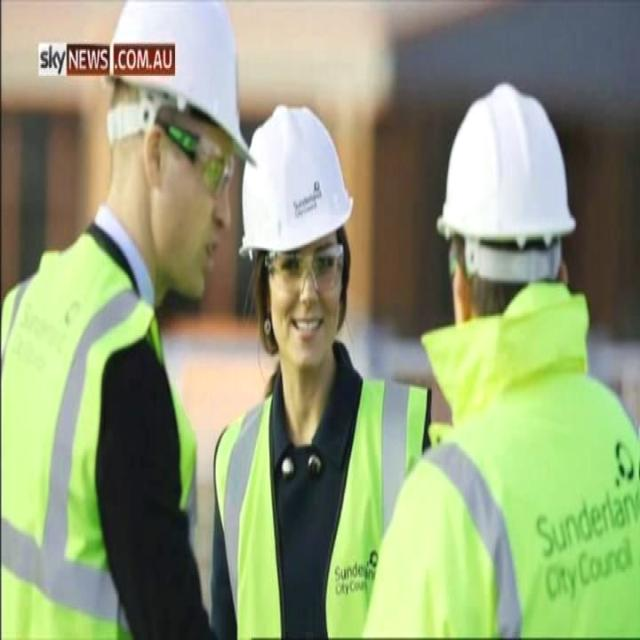face_nomask: (146, 93, 236, 307), (262, 242, 354, 368)
glasses: (261, 238, 348, 296), (188, 127, 240, 206)
head_helmet: (418, 51, 602, 266), (101, 0, 244, 153), (232, 103, 355, 254)
person: (398, 35, 630, 629), (23, 9, 225, 640), (217, 85, 388, 640)
vest: (3, 231, 190, 638), (427, 319, 630, 640), (210, 356, 421, 638)
